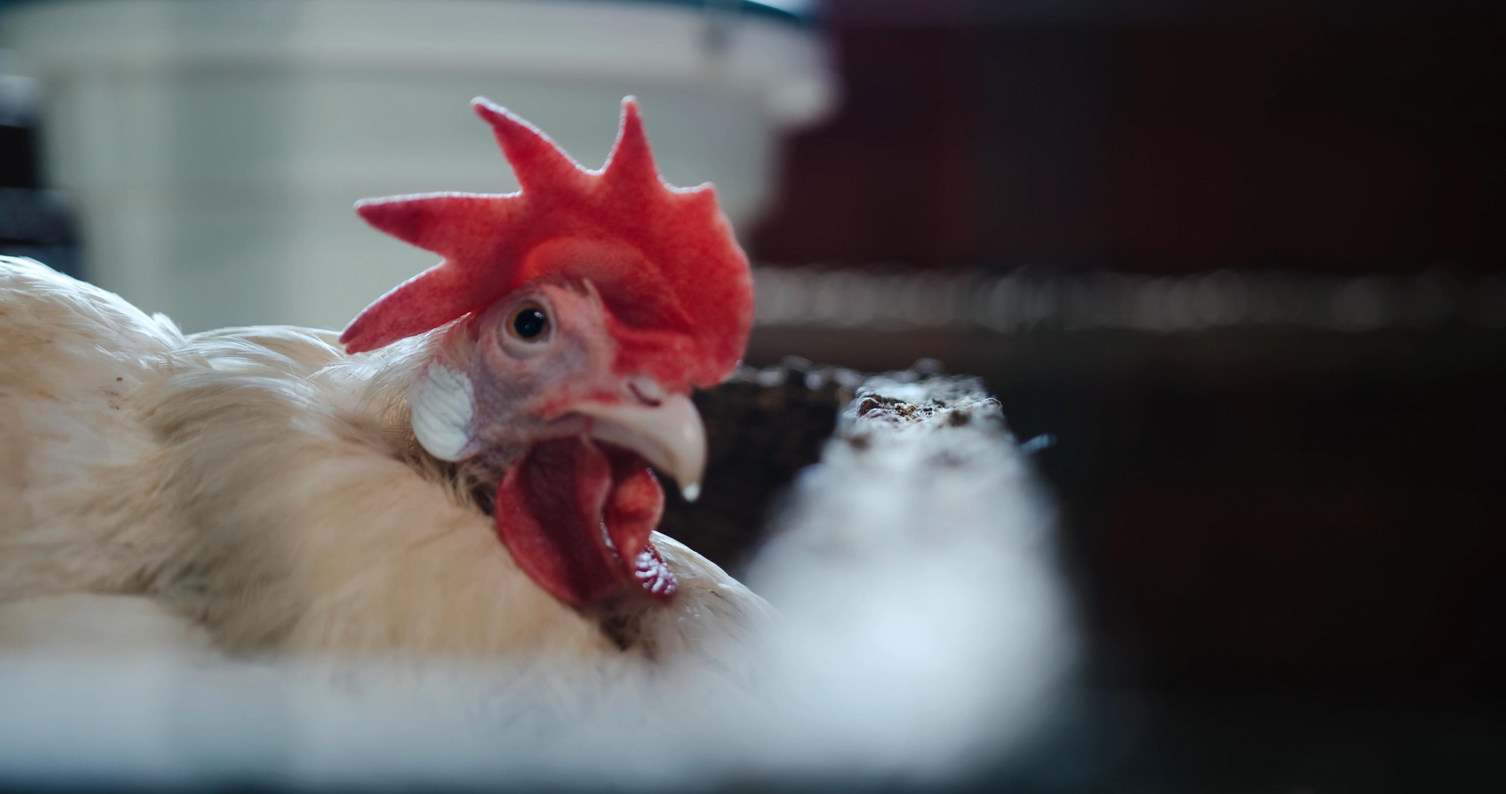Normal: (32, 100, 753, 659)
